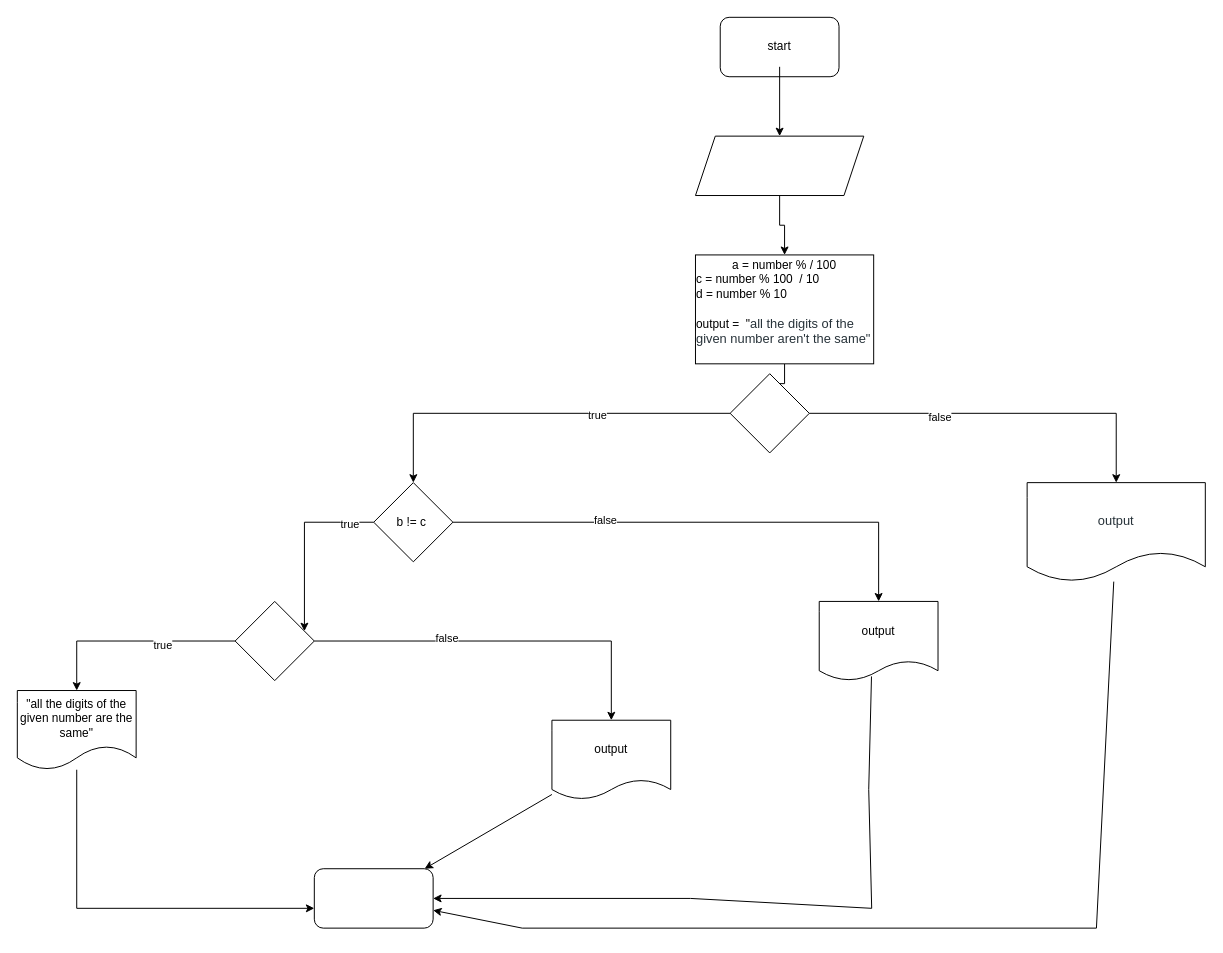
The diagram is 1223 pixels wide and 953 high, and some of its shapes have lost their labels. Each missing label, with the box of its shape:
a != b: (729, 373, 809, 453)
a != c: (234, 600, 314, 681)
end: (313, 868, 433, 928)
int number,a,b,c, String output: (694, 135, 864, 196)
